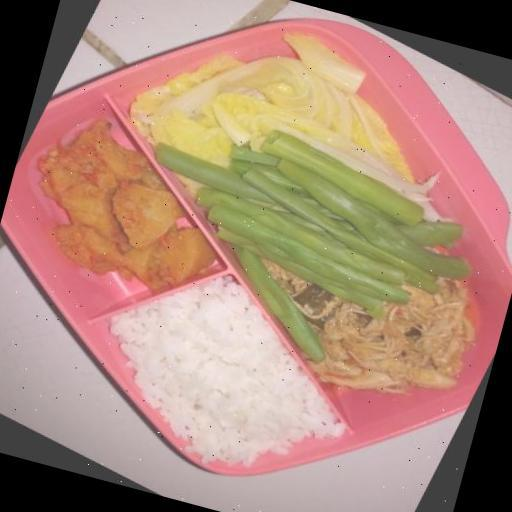buncis_rebus: (174, 96, 464, 338)
nasi_putih: (83, 263, 362, 512)
